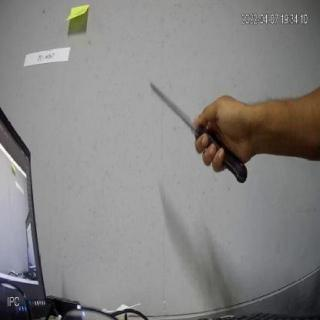knife: (143, 68, 249, 182)
